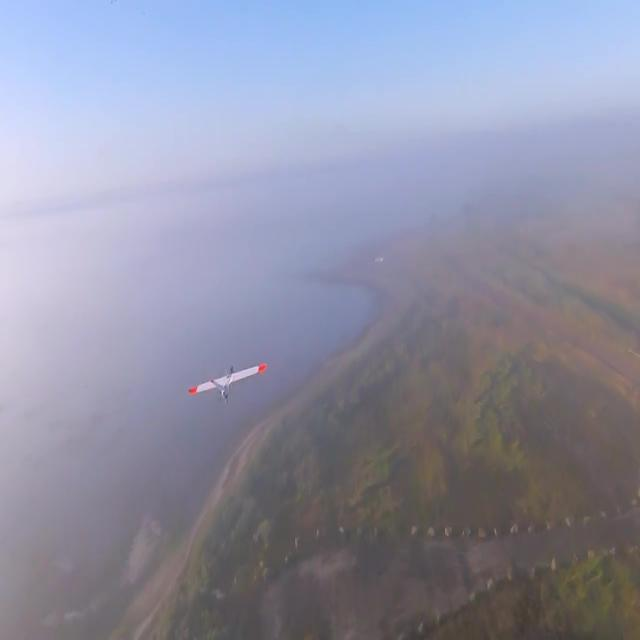iha: (219, 363, 235, 405)
